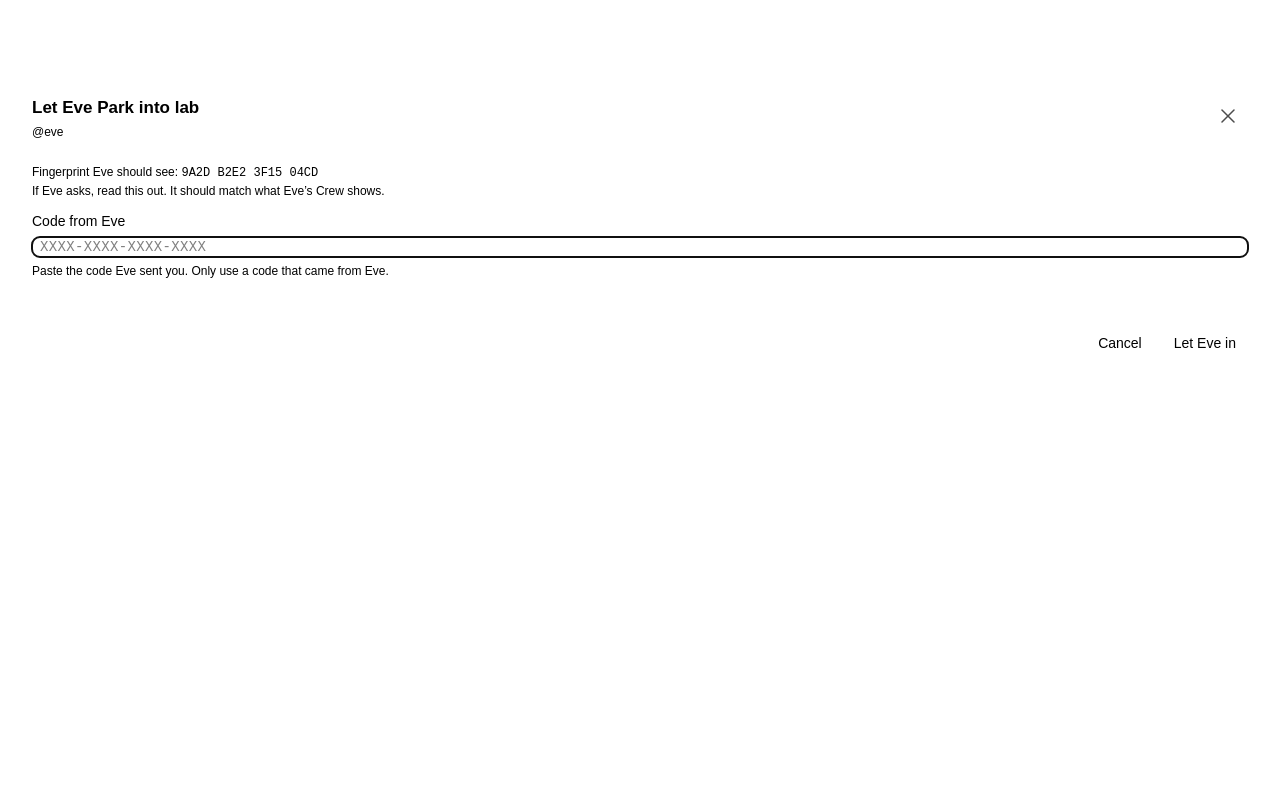
Test: LetInDialog › says a device was already let in, and replaces the code only when asked
The width and height of the screenshot is (1280, 800).
Type "7QK2M9XA3JTPWZ4D" into the field labelled "Code from Eve" at (640, 247), box [32,237,1248,257]
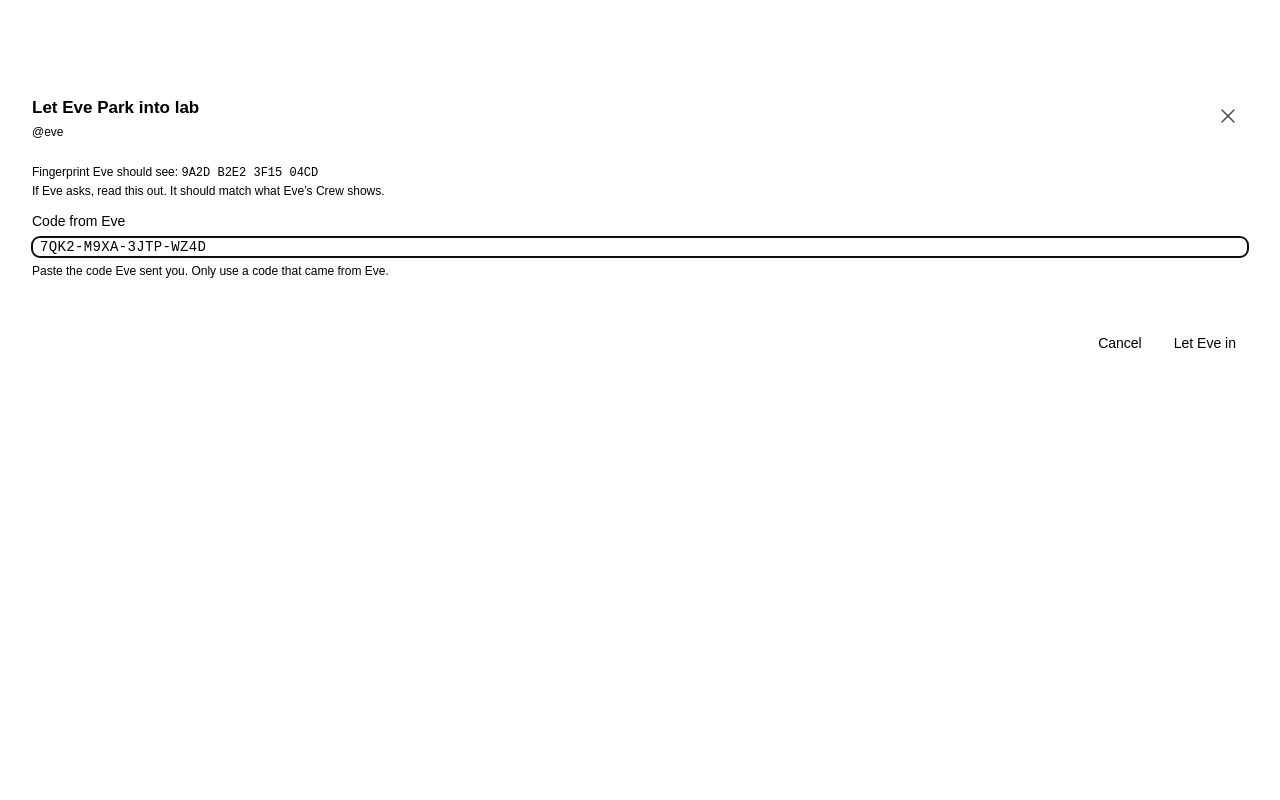
Click the button "Let Eve in" at (1205, 343), box [1162,333,1248,353]
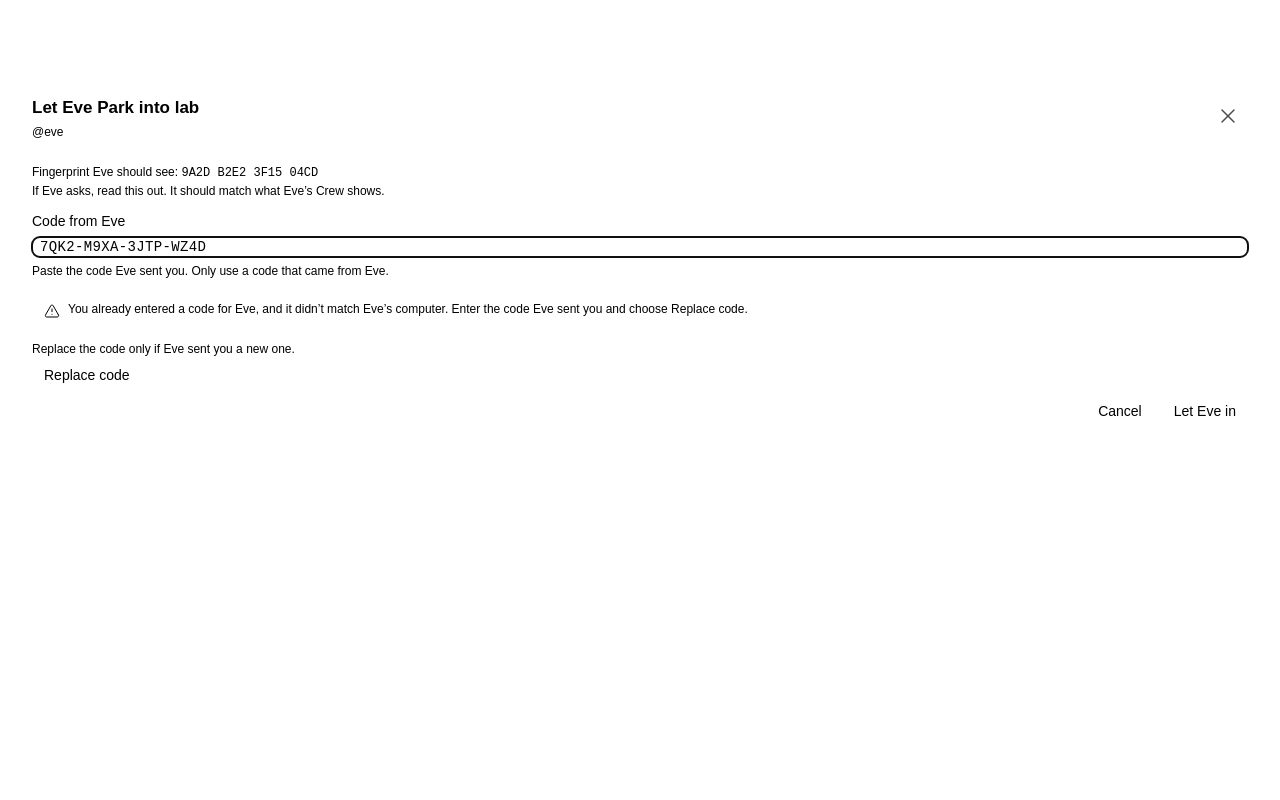
Click the button "Replace code" at (87, 375), box [32,365,142,385]
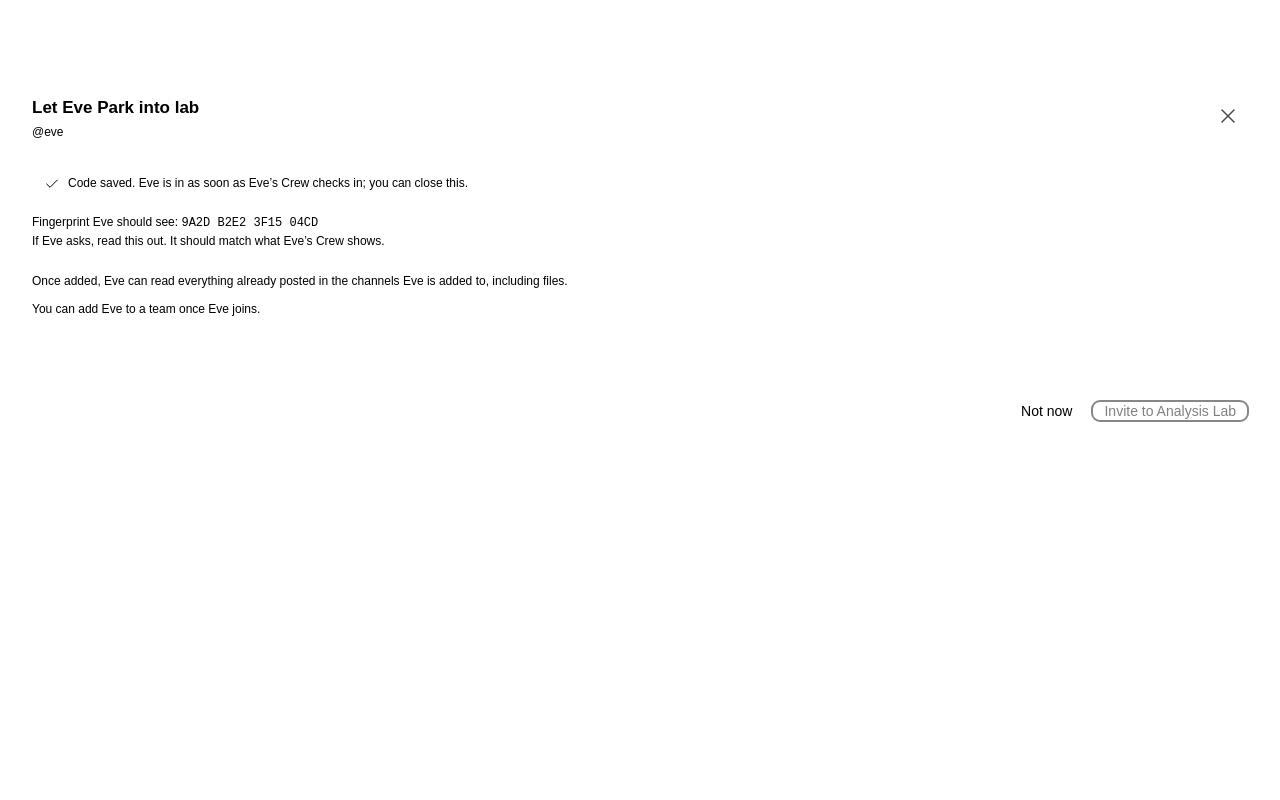
Expected: the text "7QK2" is not shown
Expected: the text "Code saved. Eve is in as soon as Eve’s Crew checks in; you can close this." is shown, [68,176,468,190]
